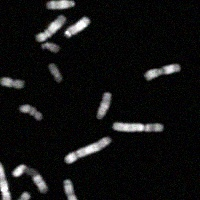chromosome: (65, 136, 111, 163), (12, 163, 47, 193), (35, 15, 66, 41), (144, 63, 181, 82), (113, 121, 163, 134), (65, 15, 90, 38), (63, 179, 86, 200), (0, 161, 12, 200), (96, 92, 111, 119), (18, 105, 43, 121), (48, 60, 64, 83), (0, 76, 26, 90), (45, 0, 77, 9), (41, 42, 59, 54), (14, 193, 30, 200)
